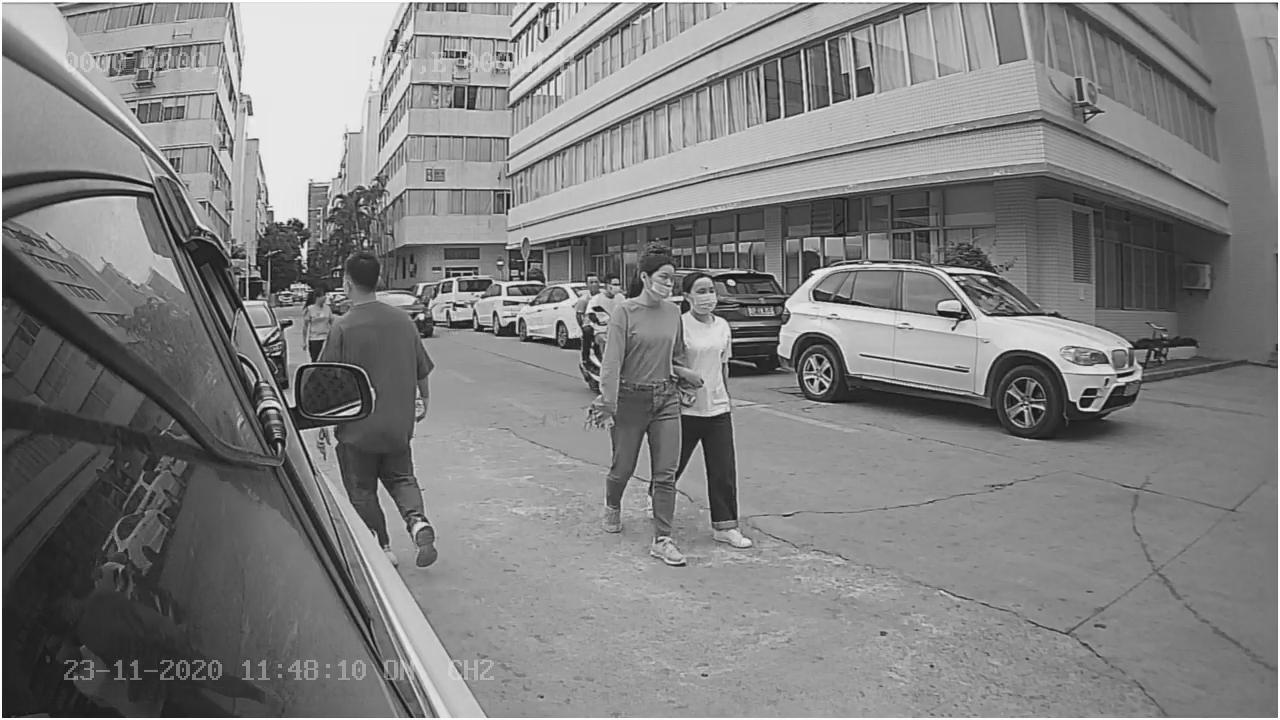person: (580, 250, 696, 560)
